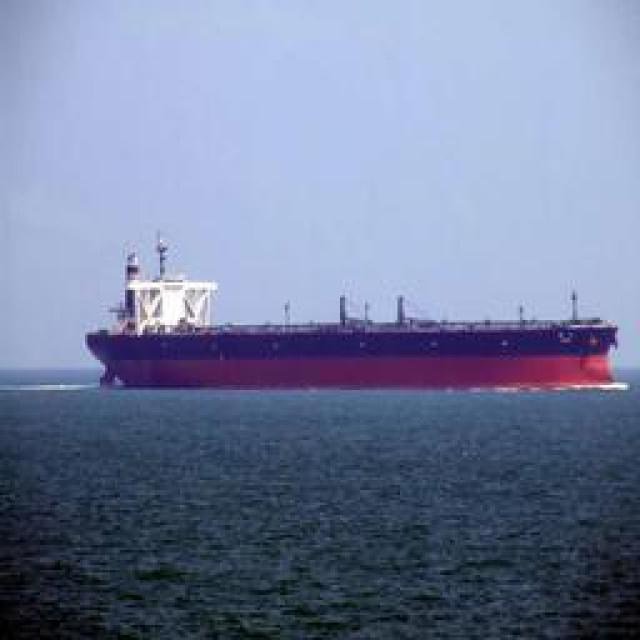Ship: (91, 234, 629, 394)
